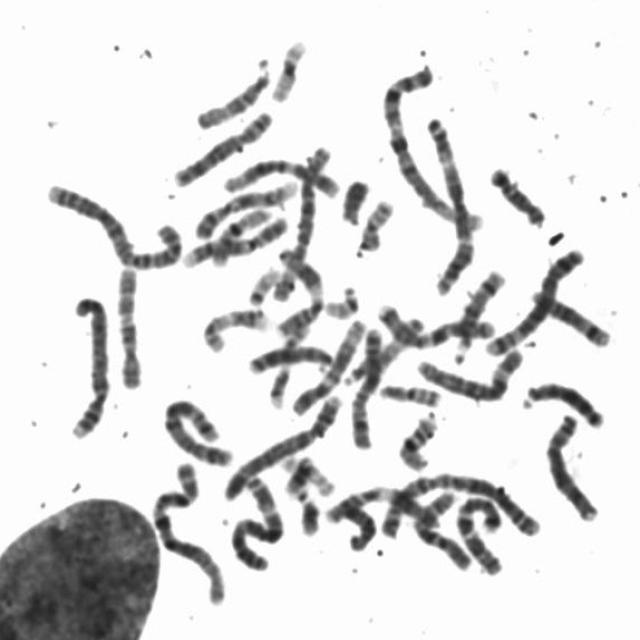A1: (376, 57, 487, 235), (145, 453, 232, 607)
A2: (38, 173, 188, 271), (374, 463, 548, 540)
A3: (418, 108, 480, 296), (224, 465, 289, 573)
B4: (214, 386, 347, 501), (63, 286, 115, 440)
B5: (479, 238, 590, 358), (157, 389, 238, 469)
C10: (406, 483, 476, 573), (110, 256, 148, 391)
C11: (316, 479, 451, 532), (270, 240, 329, 342)
C12: (284, 310, 372, 416), (218, 148, 344, 200)
C6: (268, 135, 336, 304), (412, 339, 530, 403)
C7: (373, 296, 498, 350), (449, 487, 508, 578)
C8: (166, 101, 279, 188), (540, 405, 604, 523)
C9: (188, 173, 300, 240), (177, 205, 292, 269)
D13: (517, 371, 610, 431), (244, 336, 337, 377)
D14: (447, 260, 511, 365), (524, 280, 616, 350)
D15: (338, 309, 428, 387), (190, 51, 276, 131)
E16: (204, 198, 275, 268), (392, 406, 442, 471)
E17: (263, 325, 313, 413), (197, 298, 274, 354)
E18: (484, 158, 551, 228), (329, 489, 381, 553)
F19: (266, 30, 312, 104), (275, 446, 338, 498)
F20: (352, 190, 398, 254), (373, 374, 445, 408)
G21: (276, 446, 334, 498), (294, 489, 324, 538)
G22: (242, 256, 283, 308), (319, 277, 363, 320)
X: (347, 319, 388, 450)
Y: (334, 170, 374, 226)
